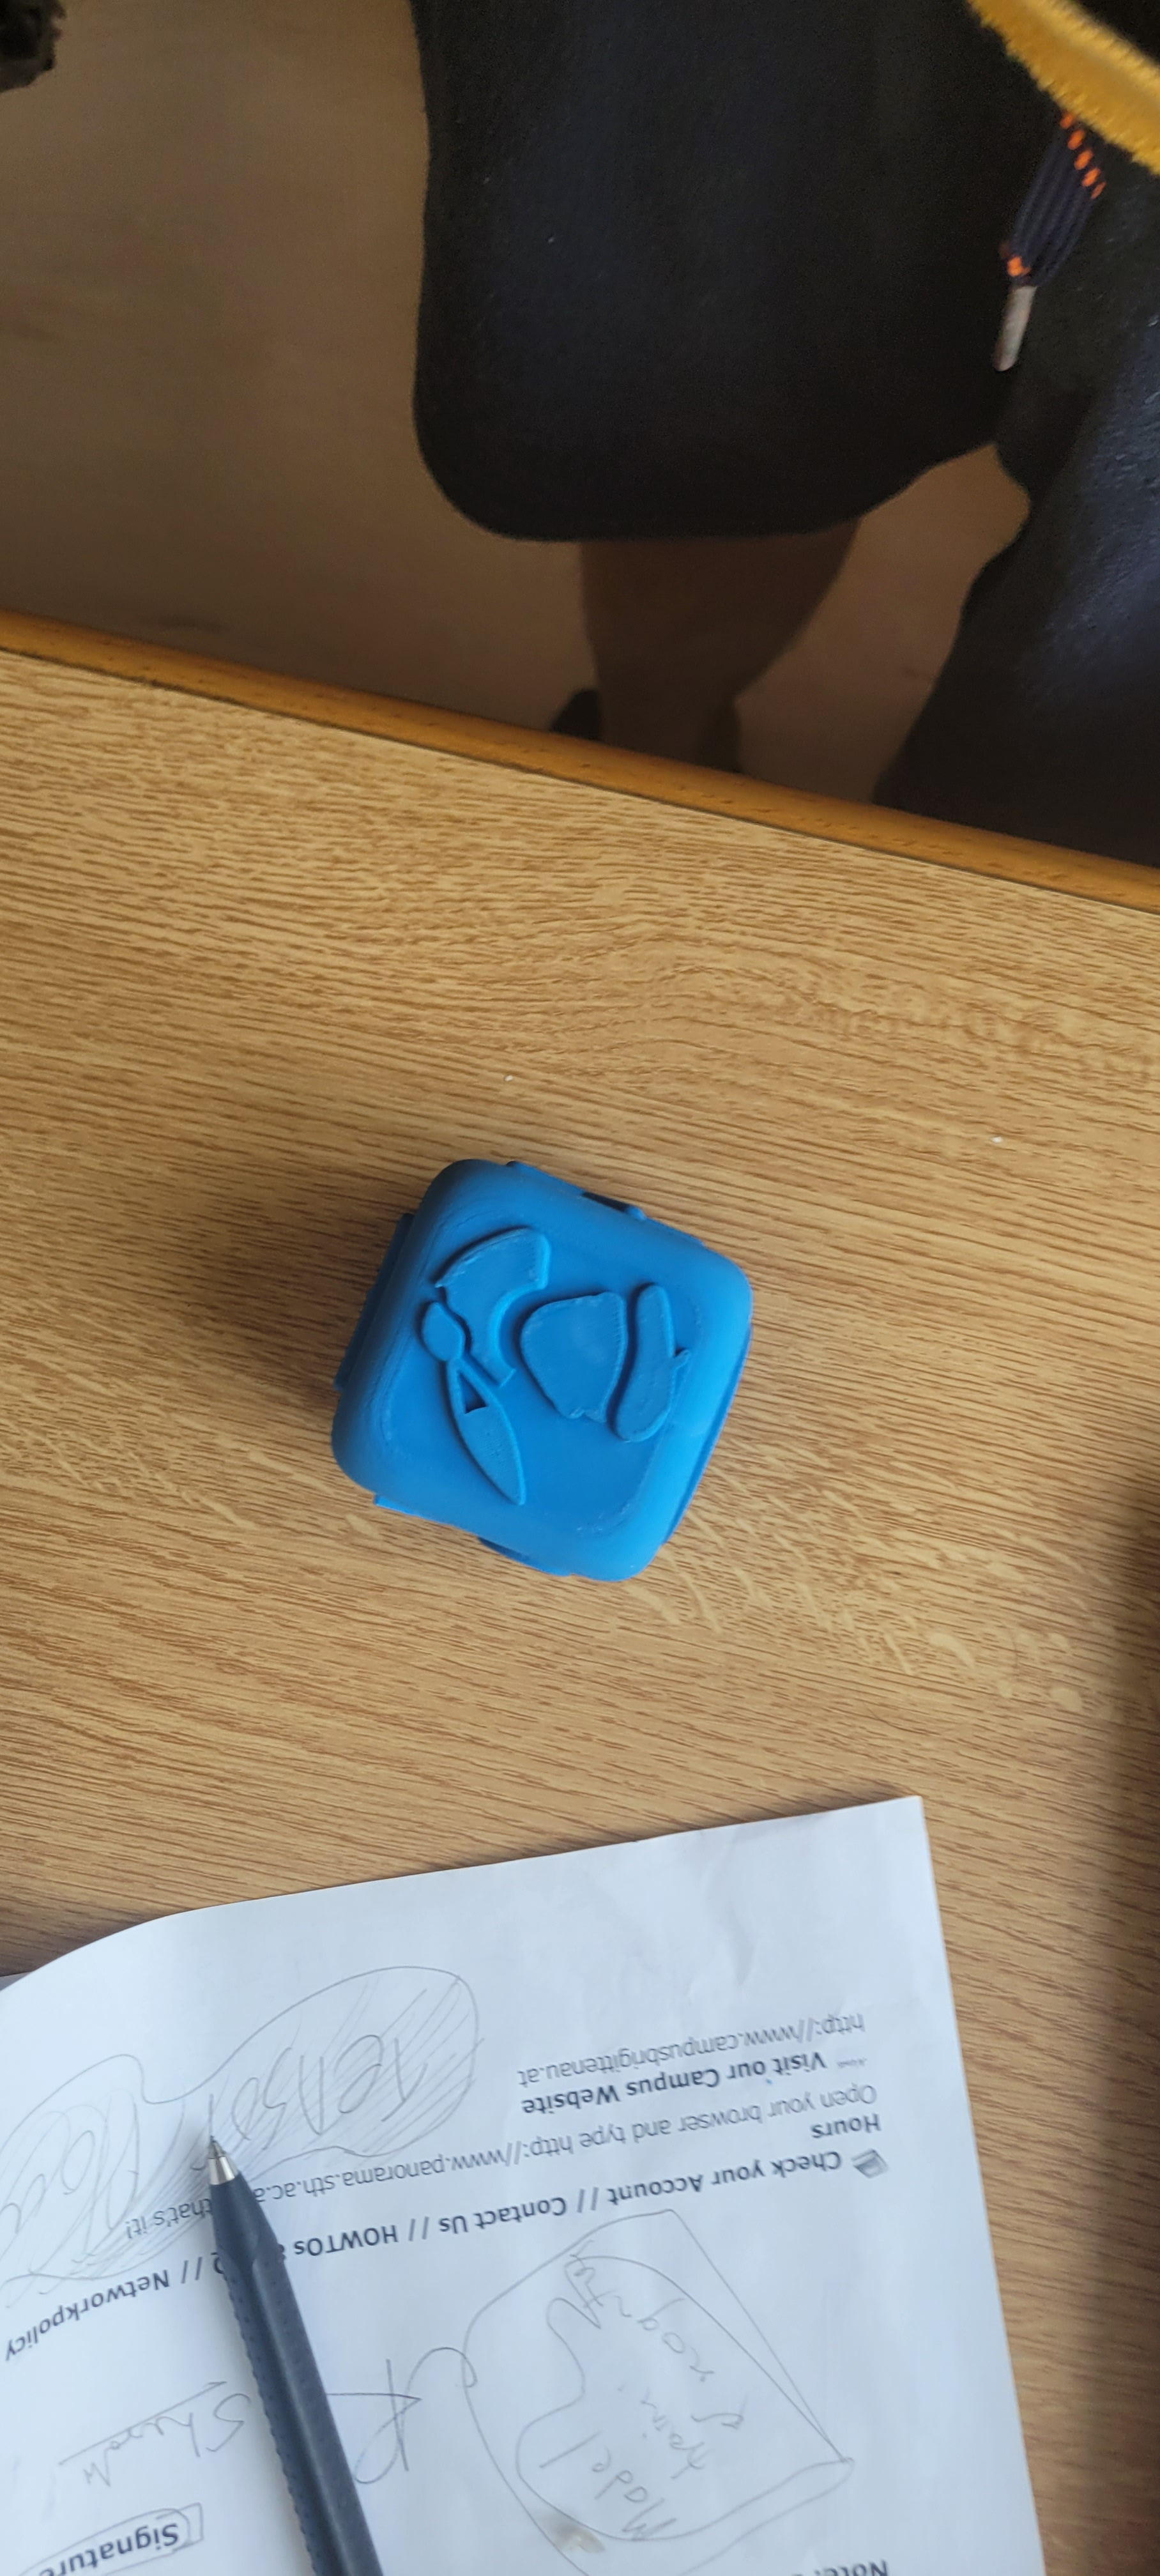Artist_Info: (333, 1105, 702, 1568)
